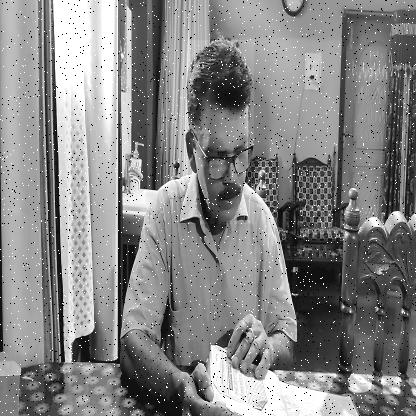Normal: (189, 40, 254, 224)
